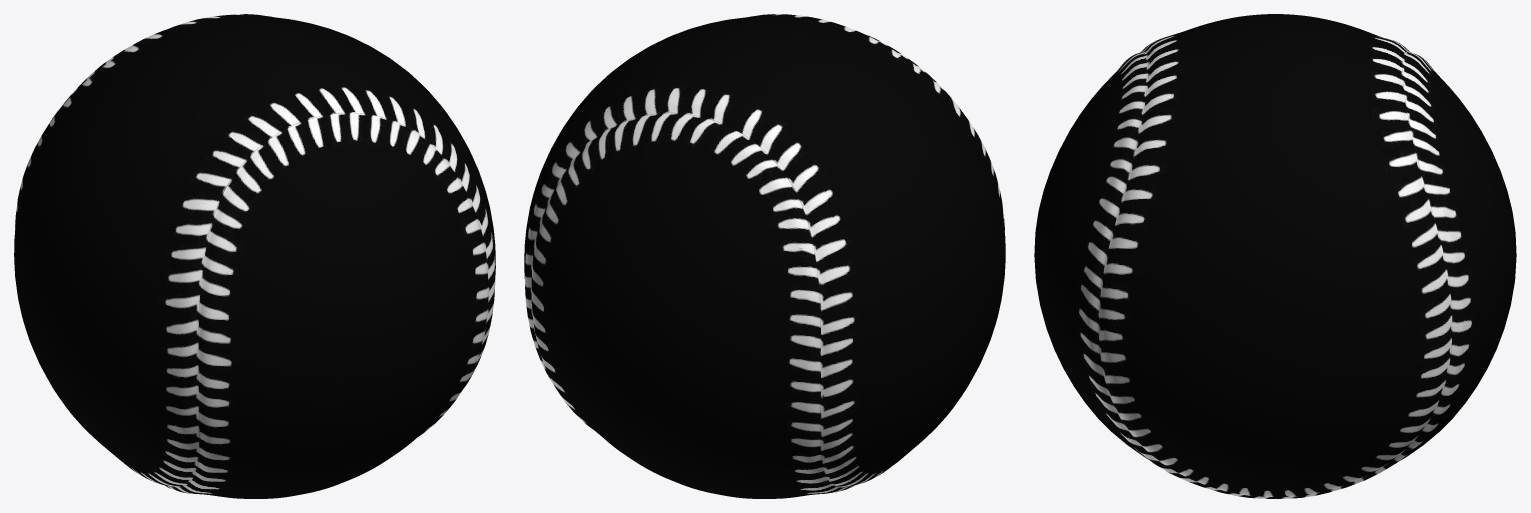
The model's file is baseball_01.glb.
The picture shows the model from 3 angles, left to right: view 1: azimuth 30°, elevation 25°; view 2: azimuth 150°, elevation 25°; view 3: azimuth 270°, elevation 25°; orthographic projection.
Visible parts, largest first — view 1: baseball_01; view 2: baseball_01; view 3: baseball_01.
Part boxes in pixels (bbox=[...]): baseball_01: bbox=[14, 14, 495, 498]; baseball_01: bbox=[524, 14, 1005, 498]; baseball_01: bbox=[1034, 14, 1516, 498].
Bounding box in the file's own units: 0.0735 × 0.0752 × 0.0753.
1 material, 1 textured.
